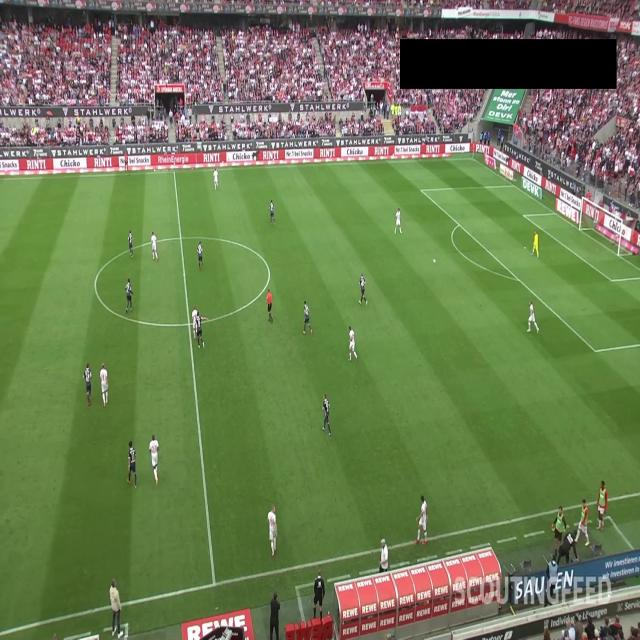Ball: (433, 258, 436, 264)
GoalKeeper: (531, 230, 540, 258)
Referee: (266, 289, 275, 324), (124, 152, 129, 174)
TEAM 1: (126, 440, 138, 489), (82, 362, 94, 408), (321, 392, 333, 438), (195, 311, 208, 352), (302, 299, 313, 337), (124, 276, 134, 314), (357, 274, 368, 306), (197, 242, 205, 272), (268, 200, 276, 226), (128, 230, 134, 258)
TEAM 2: (414, 494, 428, 545), (267, 506, 279, 558), (149, 434, 160, 485), (98, 362, 110, 407), (527, 301, 540, 336), (348, 326, 359, 362), (191, 305, 200, 341), (150, 231, 160, 263), (394, 208, 403, 235), (212, 168, 219, 190)
